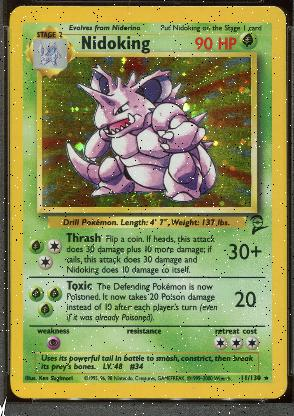Card: (4, 3, 290, 403)
